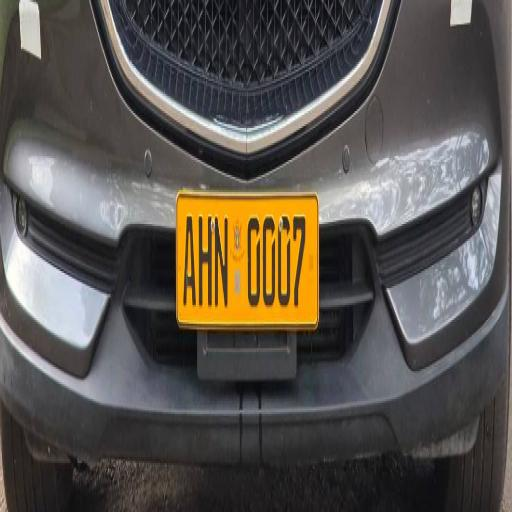number-plates: (177, 190, 306, 326)
